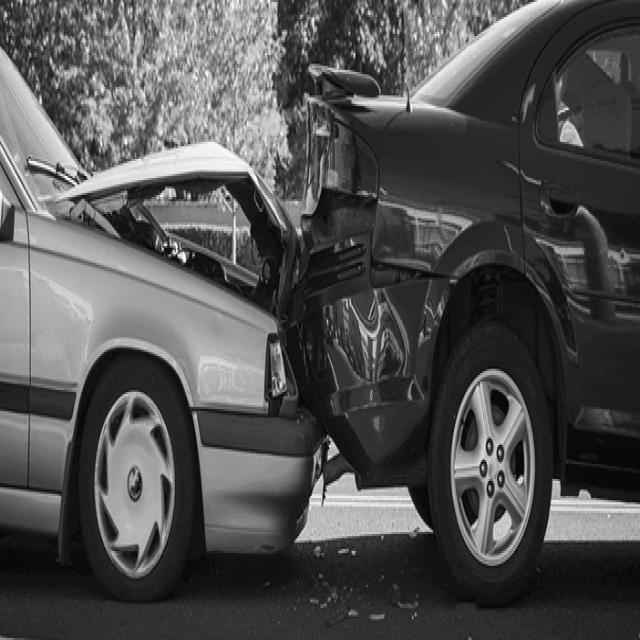crush: (59, 141, 299, 421)
misalignment: (300, 189, 445, 289)
